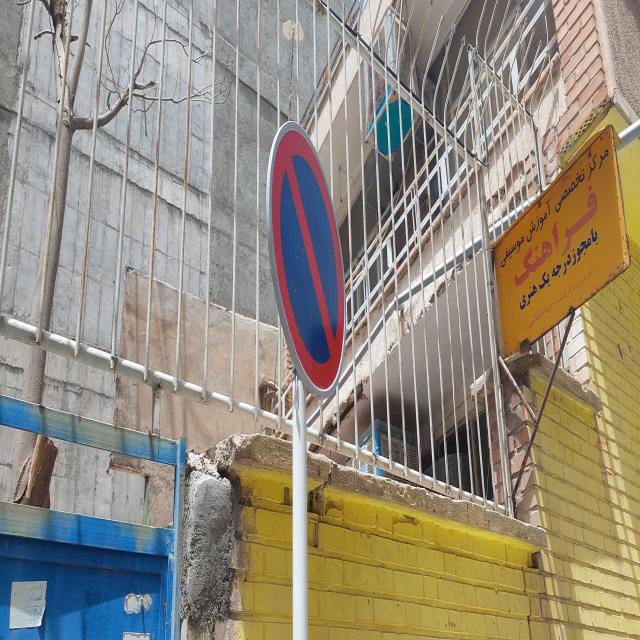forb_stopping: (266, 116, 345, 404)
